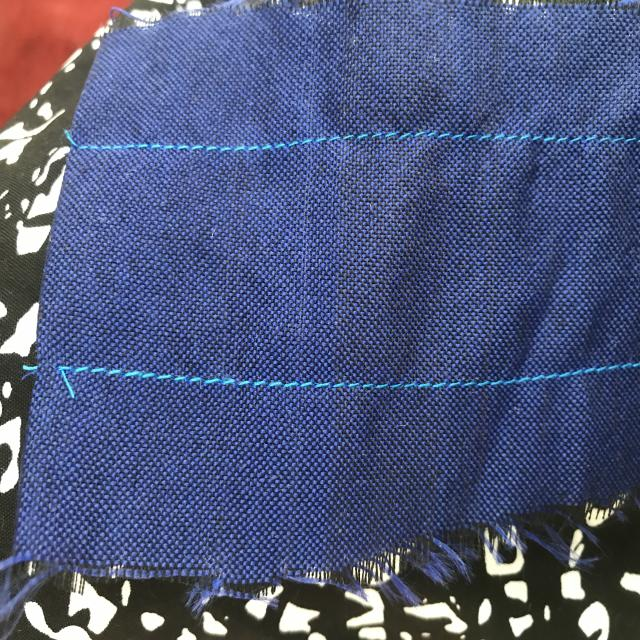good: (363, 374, 524, 398)
